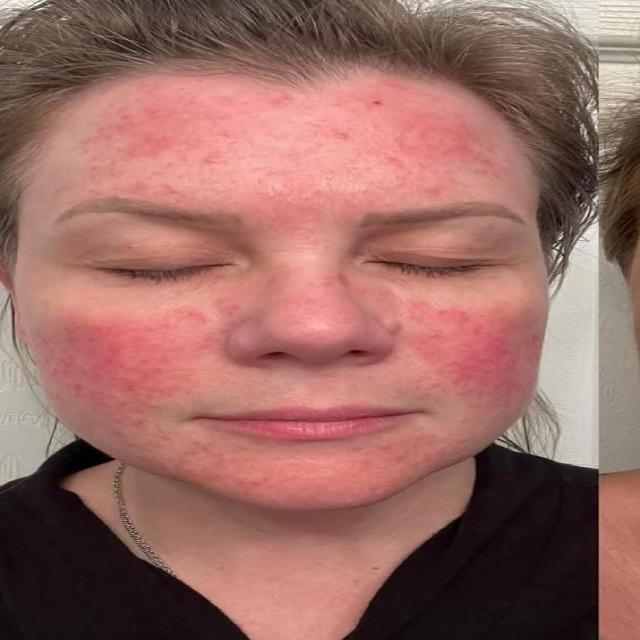Rosacea: (32, 304, 546, 411), (98, 106, 483, 188)
